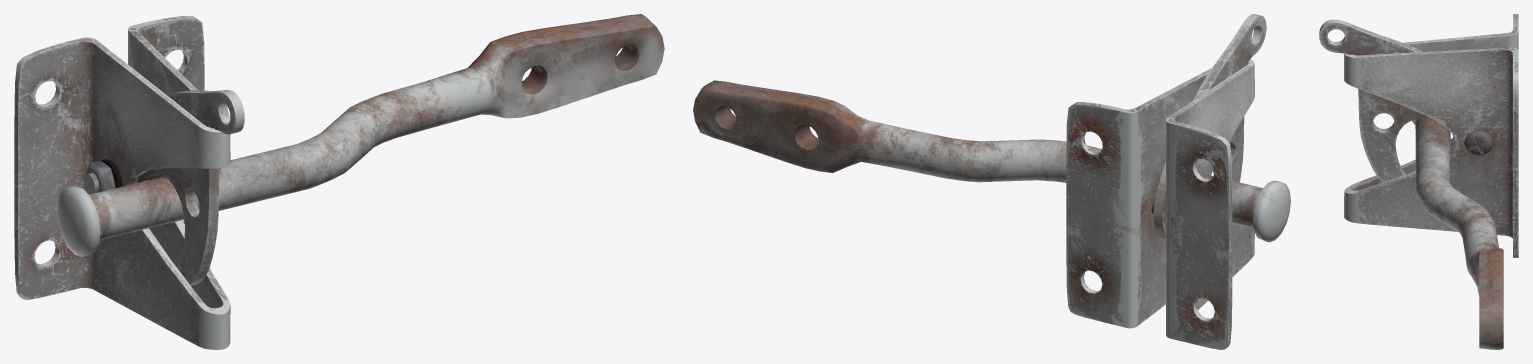
The model's file is gate_latch_01_1k.gltf.
The picture shows the model from 3 angles, left to right: view 1: azimuth 30°, elevation 25°; view 2: azimuth 150°, elevation 25°; view 3: azimuth 270°, elevation 25°; orthographic projection. The views are drawn at different scales.
Parts seen in each view (by area): view 1: gate_latch_01_frame, gate_latch_01_latch, gate_latch_01_hook; view 2: gate_latch_01_frame, gate_latch_01_latch, gate_latch_01_hook; view 3: gate_latch_01_frame, gate_latch_01_latch, gate_latch_01_hook.
Part boxes in pixels (x1=…): gate_latch_01_frame: x1=14, y1=16, x2=230, y2=349; gate_latch_01_latch: x1=57, y1=14, x2=664, y2=256; gate_latch_01_hook: x1=137, y1=90, x2=244, y2=285; gate_latch_01_frame: x1=1066, y1=59, x2=1254, y2=349; gate_latch_01_latch: x1=693, y1=80, x2=1290, y2=242; gate_latch_01_hook: x1=1153, y1=14, x2=1266, y2=240; gate_latch_01_frame: x1=1344, y1=14, x2=1518, y2=257; gate_latch_01_latch: x1=1411, y1=118, x2=1503, y2=349; gate_latch_01_hook: x1=1319, y1=19, x2=1430, y2=182.
Size of the model in its own units: 0.2051 by 0.0854 by 0.0747.
Materials: 1 (1 with a texture image).
